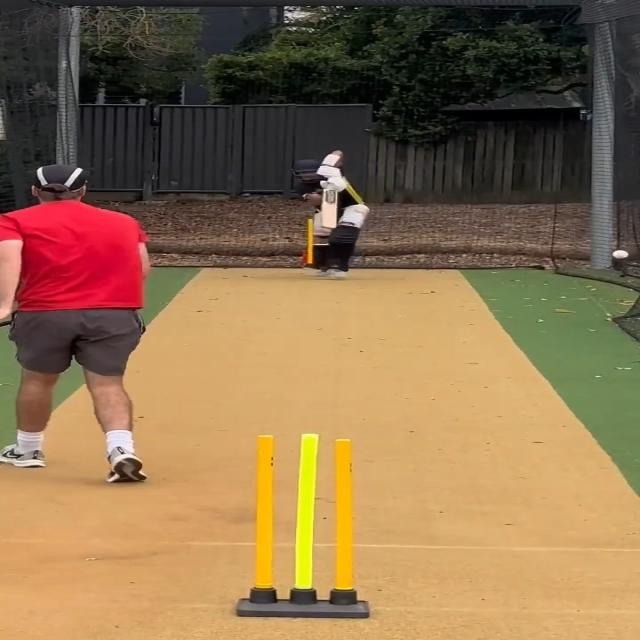ball: (611, 248, 633, 262)
stump: (233, 432, 374, 620)
